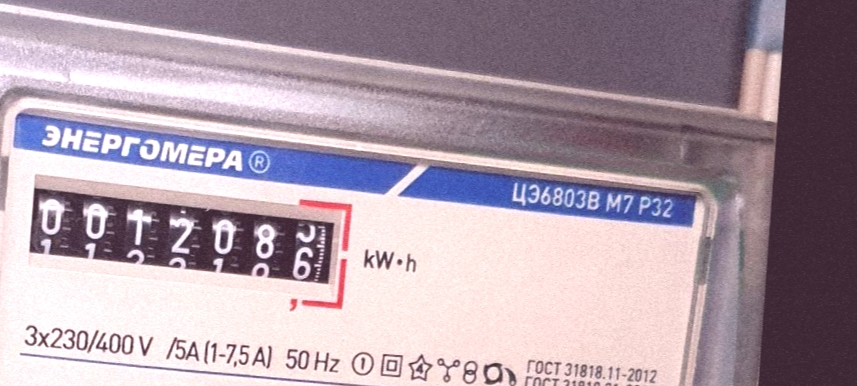0: (79, 198, 110, 242), (36, 193, 63, 236), (209, 215, 235, 256)
1: (123, 204, 148, 246)
2: (166, 214, 194, 255)
6: (286, 243, 313, 280)
8: (251, 219, 275, 260)
screen: (14, 159, 362, 322)
